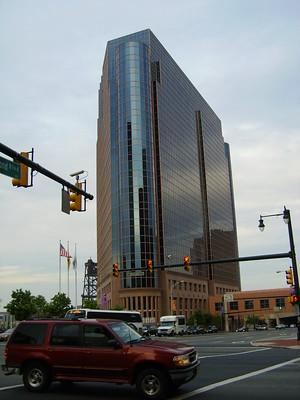building: (92, 26, 246, 328)
